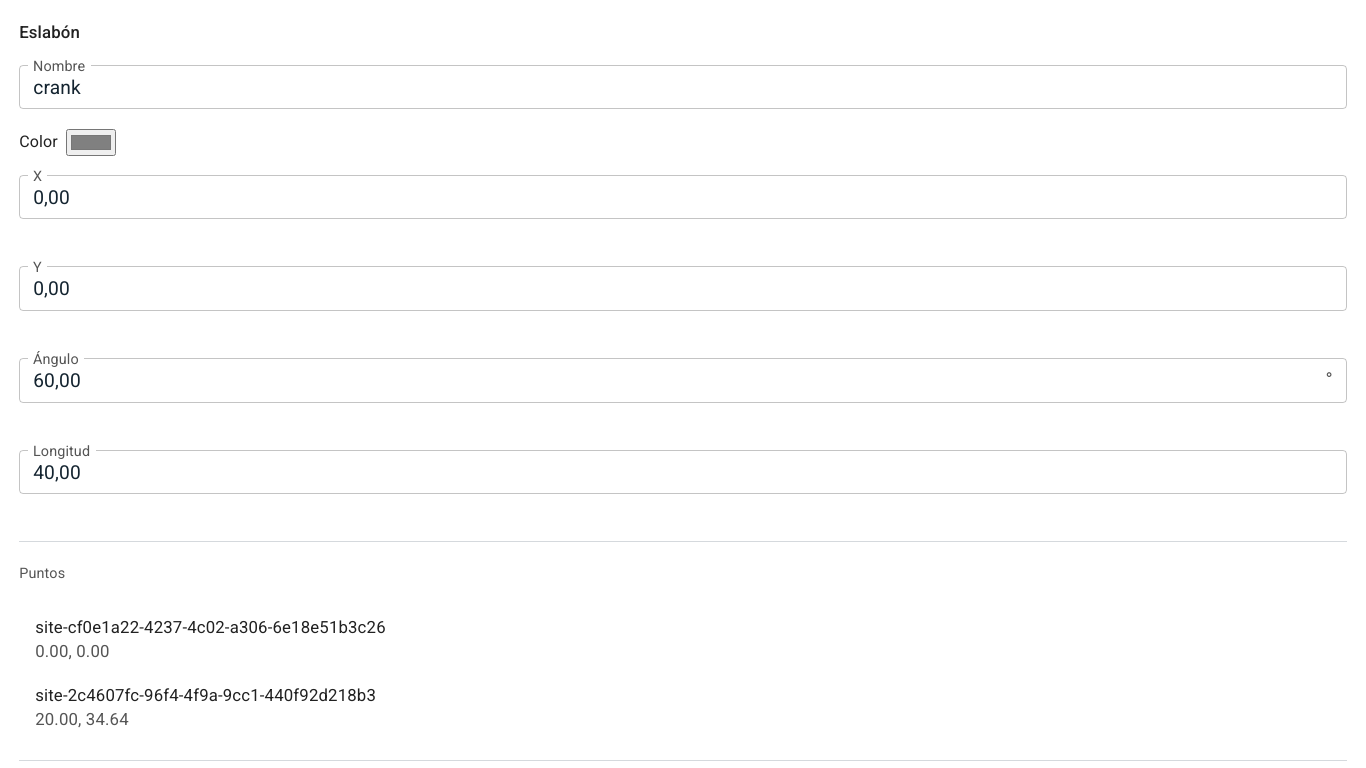
it: InspectorPanel › link form (crank) › shows name/X/Y/angle/length; editing length keeps joint A connected; undo restores
The width and height of the screenshot is (1366, 768).
Expected: the field labelled "Nombre" holds "crank", [19,65,1347,109]
Expected: the field labelled "X" holds "0,00", [19,175,1347,219]
Replace the text in the field labelled "Longitud" with "50": (683, 472) [19,450,1347,494]
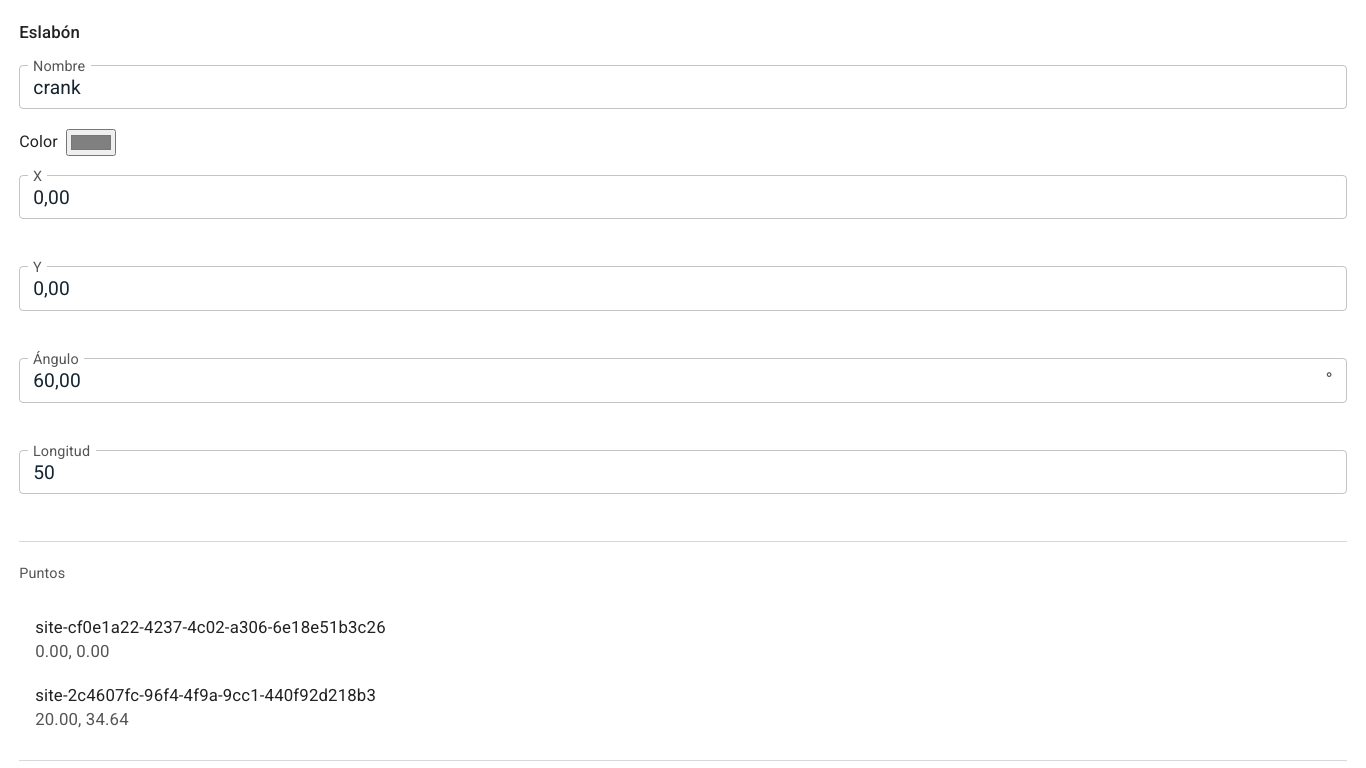
Press Enter in the field labelled "Longitud", box [19,450,1347,494]
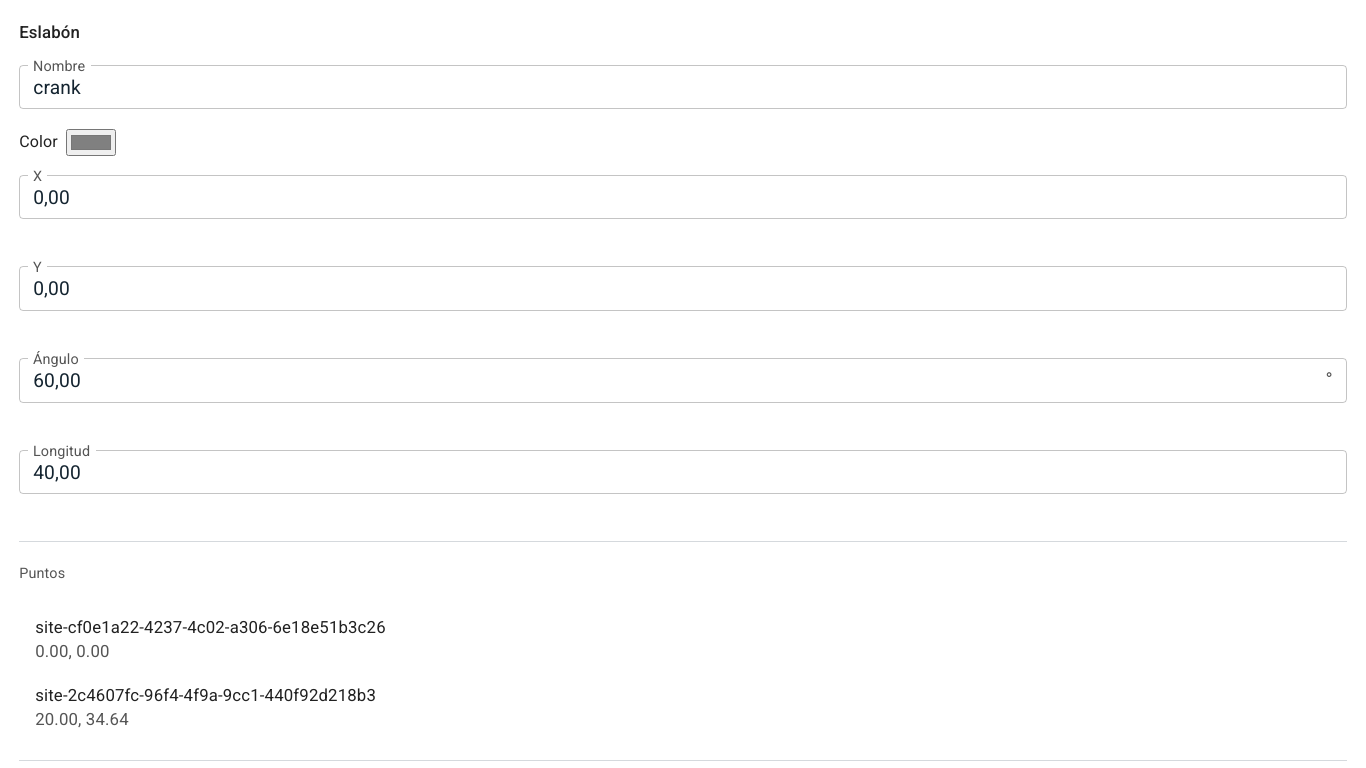
Now the field labelled "Longitud" holds "40,00", box [19,450,1347,494]
